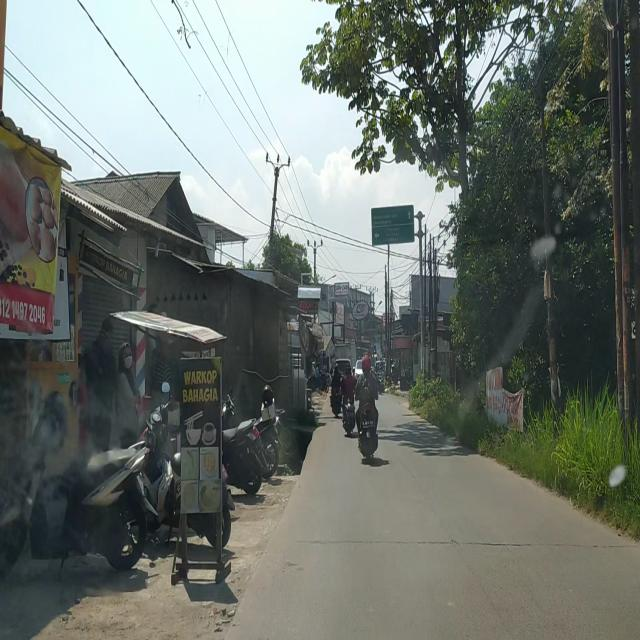Sewer Cover: (305, 534, 640, 553)
